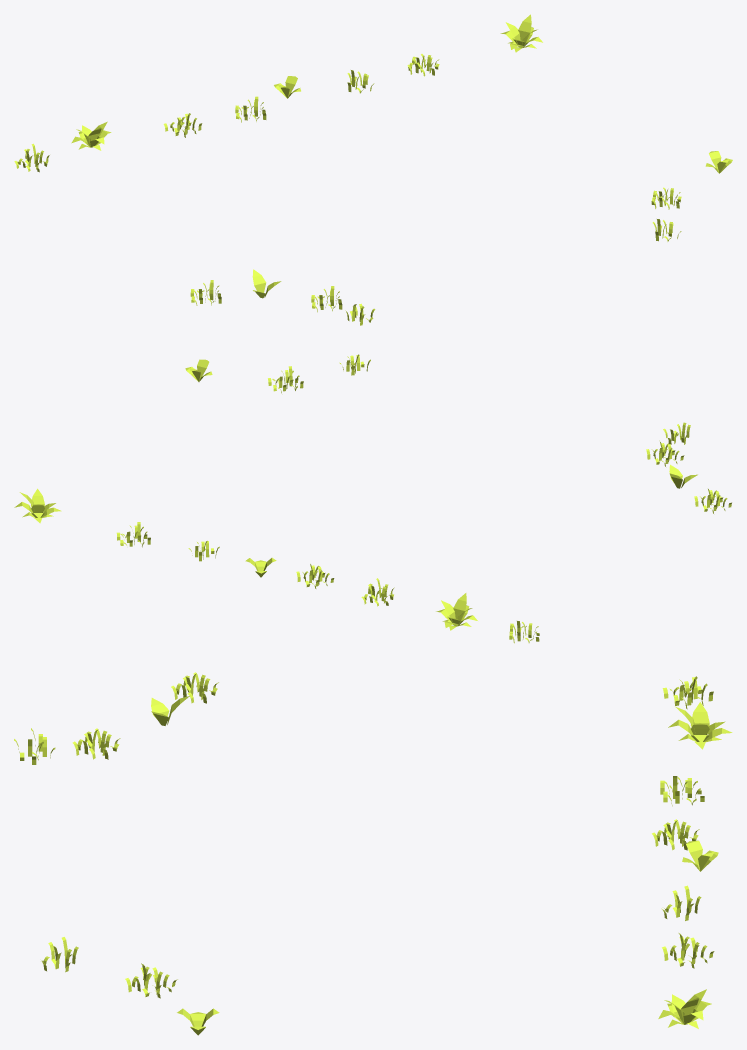
Rendered from Tile_Road_T_Grass.fbx.
3 views of the same model, one above another, from view 1: azimuth 30°, elevation 25°; view 2: azimuth 150°, elevation 25°; view 3: azimuth 270°, elevation 25° (orthographic). The views are drawn at different scales.
Visible parts, largest first — view 1: plant_bushDetailed.006; view 2: plant_bushDetailed.006; view 3: plant_bushDetailed.006.
Boxes of the visible parts, box(x1,y1,x2,y2) form: plant_bushDetailed.006: box(14, 14, 732, 325); plant_bushDetailed.006: box(14, 354, 731, 643); plant_bushDetailed.006: box(14, 672, 732, 1035).
Size of the model in its own units: 244 by 11.18 by 205.
